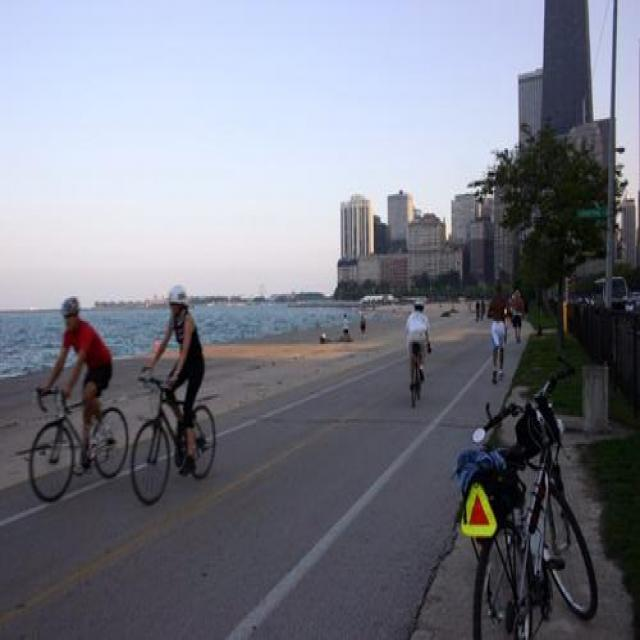bikerider: (20, 277, 134, 509), (127, 286, 229, 517), (393, 284, 435, 419)
